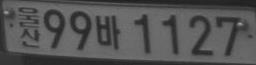1: (131, 13, 156, 54), (159, 13, 183, 54)
2: (188, 14, 214, 55)
7: (214, 15, 240, 56)
9: (68, 9, 92, 50), (42, 8, 65, 49)
울산_V: (17, 5, 41, 49)
자: (94, 14, 121, 49)
